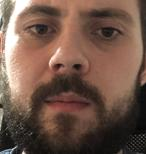without_mask: (1, 2, 146, 154)
